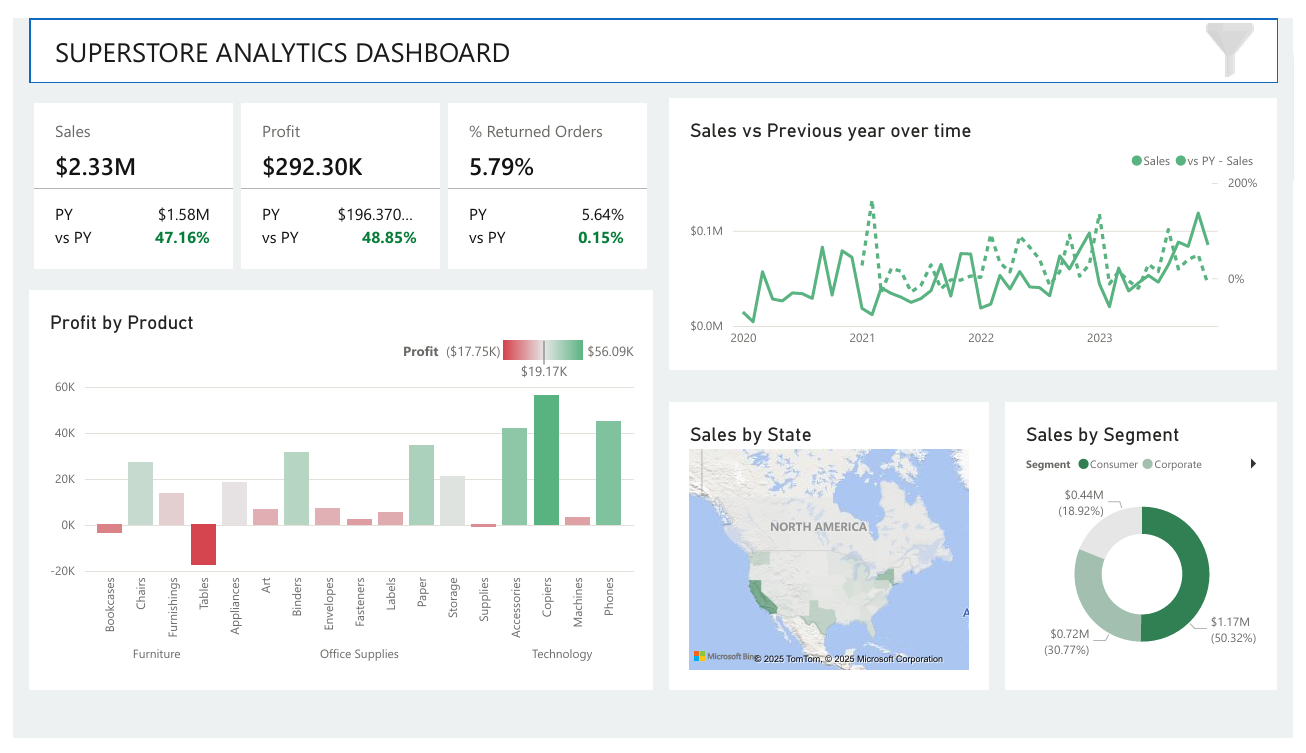

The dashboard page shown, as its layout file describes it:
{"tool":"powerbi","page":{"name":"Page 1","canvas":[1280,720],"ordinal":0},"visuals":[{"type":"cardVisual","fields":{"Data":["Key Measures.Sales","Key Measures.Profit","Key Measures.% Returned Orders"]},"box":[16,80,624,176],"z":0},{"type":"shape","box":[16,0,1248,64],"z":1000},{"type":"image","title":"filter","box":[1176,0,80,64],"z":1000,"group":"g1"},{"type":"lineChart","title":"Sales vs Previous year over time","fields":{"Y":["Key Measures.Sales"],"Category":["Date Table.Start of month"],"Y2":["Key Measures.vs PY - Sales"]},"box":[656,80,608,272],"z":2000},{"type":"columnChart","title":"Profit by Product","fields":{"Category":["Orders.Category","Orders.Sub-Category"],"Y":["Sum(Orders.Profit)"]},"box":[16,288,624,384],"z":3000},{"type":"filledMap","title":"Sales by State","fields":{"Category":["Orders.State/Province"]},"box":[656,384,320,288],"z":4000},{"type":"donutChart","title":"Sales by Segment","fields":{"Category":["Orders.Segment"],"Y":["Key Measures.Sales"]},"box":[992,384,272,288],"z":5000},{"type":"group","id":"g1","title":"slicer pane","box":[744,0,528,432],"z":6000}]}

Visuals, with their boxes in screenshot pixels (x1, y1, x2, y2), scaled from the page's 1280x720 canvas onto the 1306x753 screenshot:
cardVisual - Key Measures.Sales x Key Measures.Profit: {"x1": 16, "y1": 84, "x2": 653, "y2": 268}
shape: {"x1": 16, "y1": 0, "x2": 1290, "y2": 67}
"filter" image: {"x1": 1200, "y1": 0, "x2": 1282, "y2": 67}
"Sales vs Previous year over time" lineChart: {"x1": 669, "y1": 84, "x2": 1290, "y2": 368}
"Profit by Product" columnChart: {"x1": 16, "y1": 301, "x2": 653, "y2": 703}
"Sales by State" filledMap: {"x1": 669, "y1": 402, "x2": 996, "y2": 703}
"Sales by Segment" donutChart: {"x1": 1012, "y1": 402, "x2": 1290, "y2": 703}
"slicer pane" group: {"x1": 759, "y1": 0, "x2": 1298, "y2": 452}
